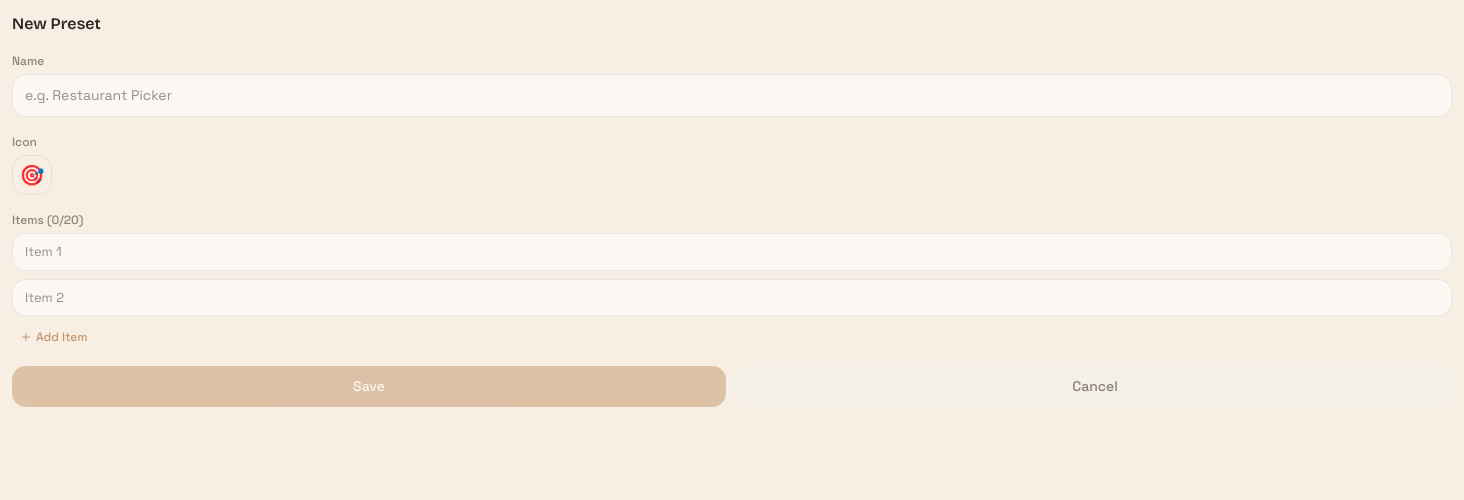
Scenario: CreatePresetForm › hides emoji grid after selecting an emoji
The width and height of the screenshot is (1464, 500).
Click the button with test id "icon-picker-btn" at coordinates (32, 175), box [12,155,52,195]
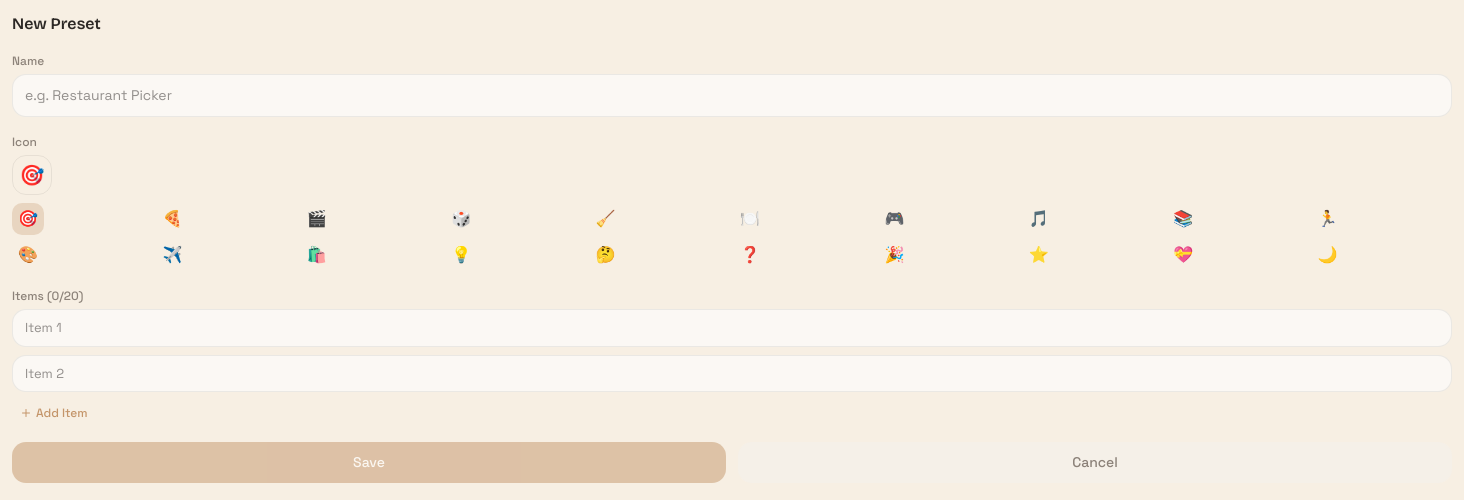
# Click the pizza emoji
Click the button "🍕" at coordinates (172, 219), box [156,203,188,235]
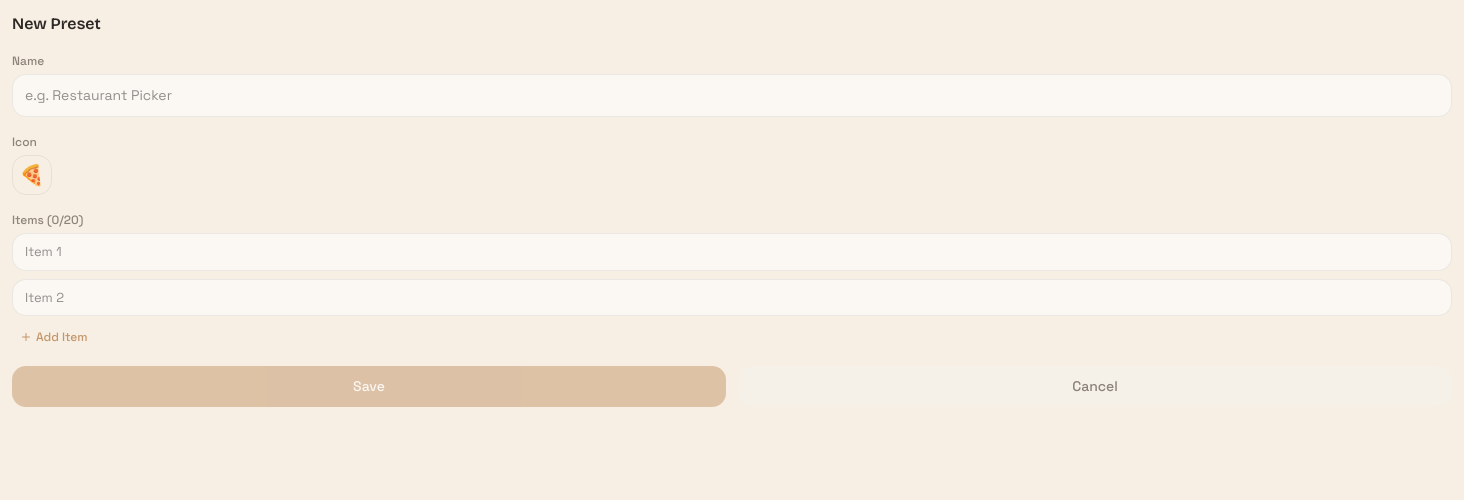
Check: the element with test id "emoji-grid" is gone
